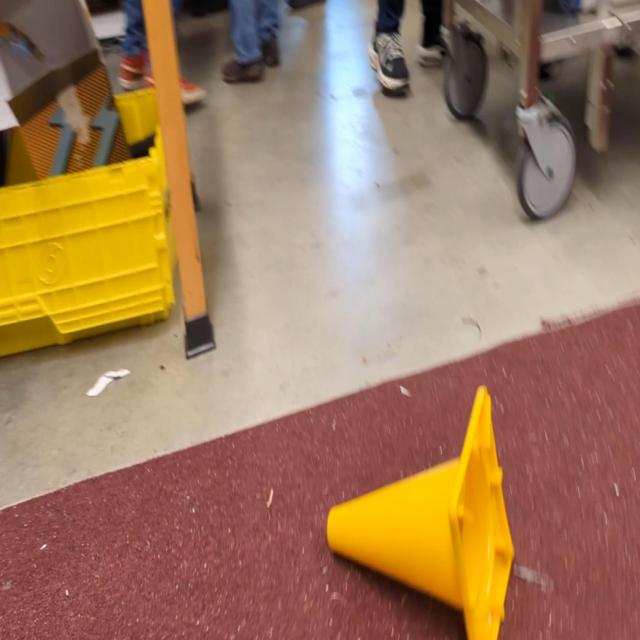frc_cone: (326, 390, 516, 640)
